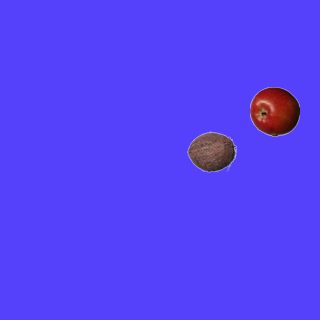Apple Braeburn: (249, 86, 299, 136)
Cocos: (186, 126, 236, 176)
